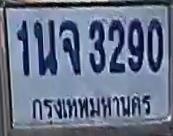0: (147, 18, 162, 72)
1: (16, 20, 30, 76)
2: (109, 20, 124, 72)
3: (88, 20, 105, 73)
9: (127, 19, 144, 72)
A08: (59, 21, 81, 76)
A25: (33, 19, 57, 75)
BKK: (28, 91, 153, 124)
